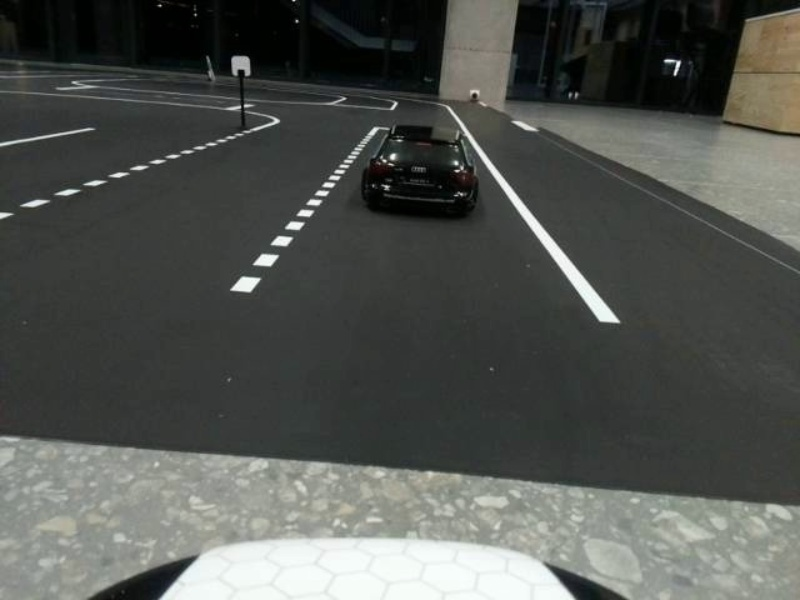car: (365, 122, 484, 212)
